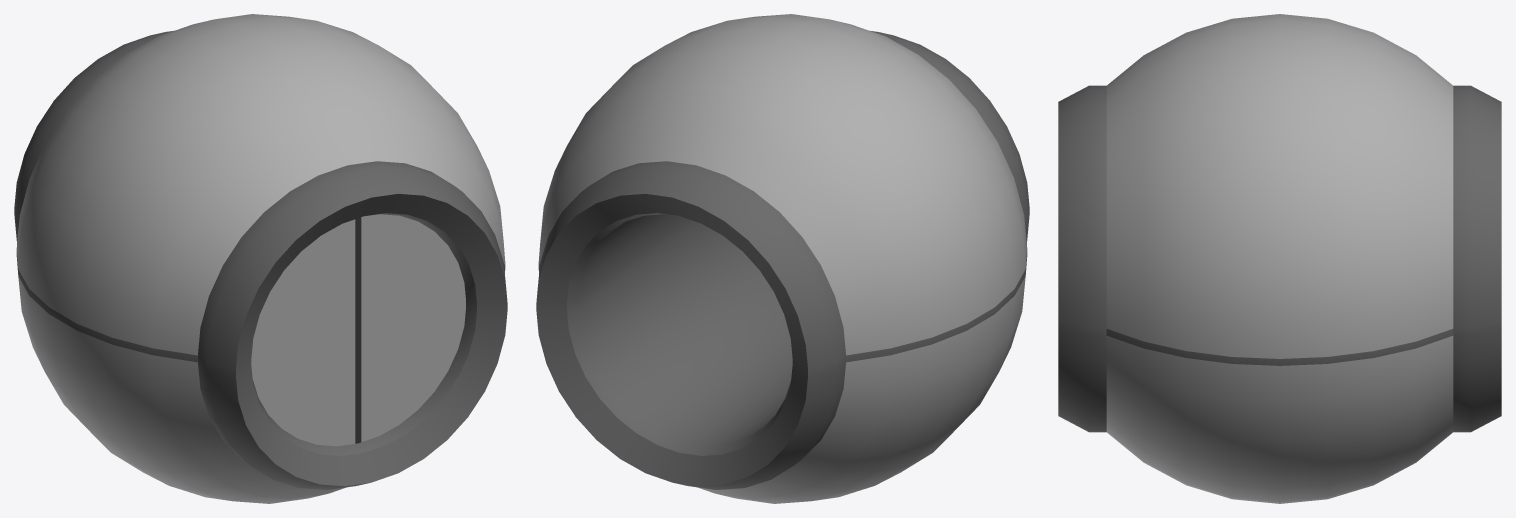
The model's file is House_OpenBack_Sphere.obj.
3 renders of one model, left to right at view 1: azimuth 30°, elevation 25°; view 2: azimuth 150°, elevation 25°; view 3: azimuth 270°, elevation 25°, orthographic.
Visible parts, largest first — view 1: House_OpenBack_Sphere.010; view 2: House_OpenBack_Sphere.010; view 3: House_OpenBack_Sphere.010.
Boxes of the visible parts, left/top/right/bottom form: House_OpenBack_Sphere.010: left=14, top=14, right=507, bottom=503; House_OpenBack_Sphere.010: left=536, top=14, right=1029, bottom=503; House_OpenBack_Sphere.010: left=1058, top=14, right=1501, bottom=503.
Size of the model in its own units: 3.99 by 4 by 3.61.
